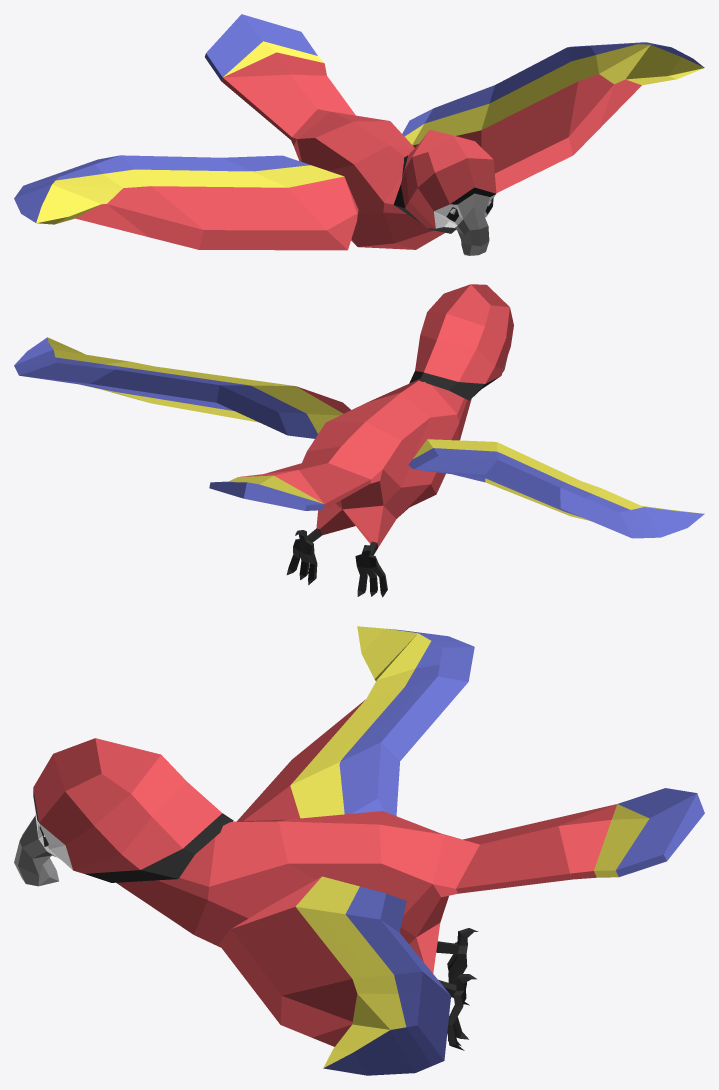
Rendered from Flying_parrot.fbx.
3 renders of one model, top to bottom at view 1: azimuth 30°, elevation 25°; view 2: azimuth 150°, elevation 25°; view 3: azimuth 270°, elevation 25°, orthographic. The views are drawn at different scales.
Visible parts, largest first — view 1: Ala 2, cuerpo, ala 1, cabeza; view 2: cuerpo, ala 1, Ala 2, cabeza; view 3: cuerpo, ala 1, cabeza, Ala 2.
Part boxes in pixels (box(x1,y1,x2,y2)): Ala 2: box(14, 155, 358, 250); cuerpo: box(205, 14, 444, 249); ala 1: box(402, 42, 704, 193); cabeza: box(393, 129, 496, 255); cuerpo: box(209, 379, 471, 597); ala 1: box(14, 337, 350, 438); Ala 2: box(408, 439, 704, 538); cabeza: box(409, 284, 513, 400); cuerpo: box(116, 788, 704, 1050); ala 1: box(219, 876, 450, 1075); cabeza: box(14, 738, 233, 886); Ala 2: box(237, 626, 474, 821).
Bounding box in the file's own units: 419 × 123 × 272.
